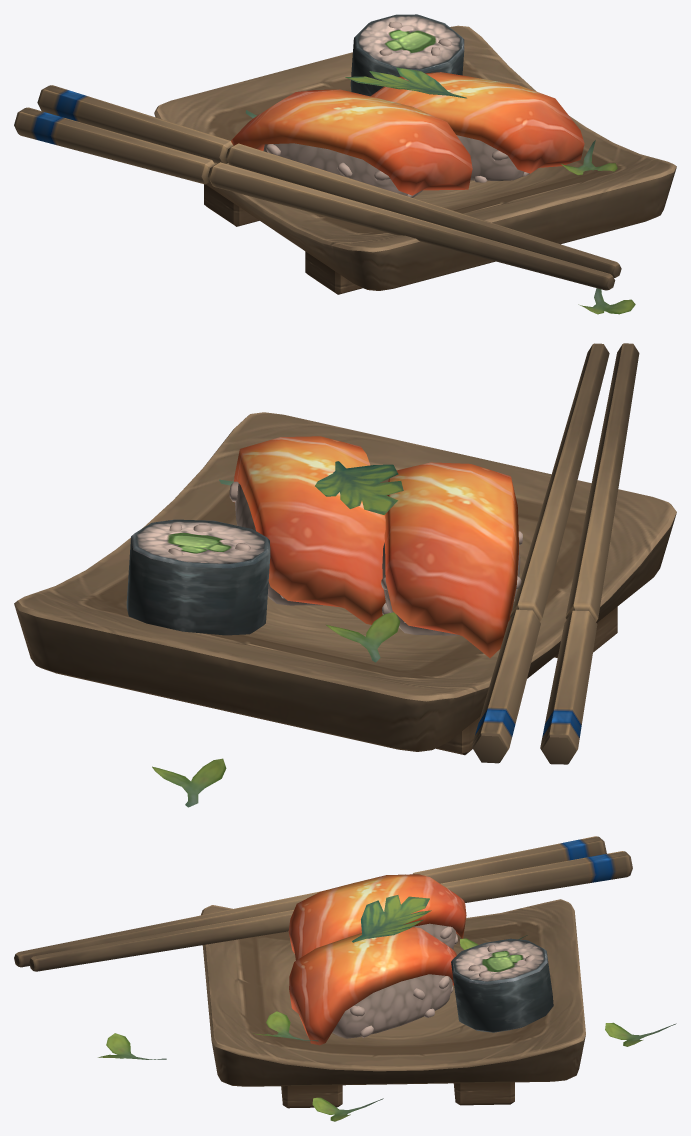
Rendered from sushi.glb.
The picture shows the model from 3 angles, top to bottom: view 1: azimuth 30°, elevation 25°; view 2: azimuth 150°, elevation 25°; view 3: azimuth 270°, elevation 25°; orthographic projection. The views are drawn at different scales.
Visible parts, largest first — view 1: Plate_01_Free, Nigiri_Sake.002, Chopstick.001, Chopstick_Free, Nigiri_Sake_Free, Maki_01_Free, Leaf_02_Free, Leaf_03.002, Leaf_03.009; view 2: Plate_01_Free, Nigiri_Sake.002, Nigiri_Sake_Free, Maki_01_Free, Chopstick.001, Chopstick_Free, Leaf_02_Free, Leaf_03_Free, Leaf_03.001; view 3: Plate_01_Free, Nigiri_Sake_Free, Chopstick_Free, Maki_01_Free, Nigiri_Sake.002, Chopstick.001, Leaf_02_Free, Leaf_03.002, Leaf_03.009, Leaf_03.004, Leaf_03_Free.
Part boxes in pixels (box(x1,y1,x2,y2)): Plate_01_Free: box(154, 25, 676, 294); Nigiri_Sake.002: box(231, 89, 472, 197); Chopstick.001: box(14, 107, 615, 290); Chopstick_Free: box(37, 85, 621, 277); Nigiri_Sake_Free: box(370, 72, 584, 182); Maki_01_Free: box(350, 14, 464, 96); Leaf_02_Free: box(345, 67, 466, 98); Leaf_03.002: box(578, 288, 635, 314); Leaf_03.009: box(561, 140, 617, 175); Plate_01_Free: box(14, 412, 676, 755); Nigiri_Sake.002: box(381, 462, 522, 657); Nigiri_Sake_Free: box(229, 436, 385, 624); Maki_01_Free: box(126, 519, 270, 635); Chopstick.001: box(540, 343, 639, 764); Chopstick_Free: box(471, 343, 609, 763); Leaf_02_Free: box(315, 461, 403, 514); Leaf_03_Free: box(152, 758, 226, 807); Leaf_03.001: box(326, 612, 400, 662); Plate_01_Free: box(201, 899, 585, 1108); Nigiri_Sake_Free: box(289, 927, 456, 1045); Chopstick_Free: box(29, 851, 632, 971); Maki_01_Free: box(451, 938, 553, 1032); Nigiri_Sake.002: box(288, 874, 466, 960); Chopstick.001: box(14, 836, 606, 967); Leaf_02_Free: box(352, 895, 431, 942); Leaf_03.002: box(98, 1033, 166, 1059); Leaf_03.009: box(253, 1011, 318, 1041); Leaf_03.004: box(312, 1097, 383, 1121); Leaf_03_Free: box(605, 1022, 676, 1046).
Size of the model in its own units: 0.4074 by 0.1147 by 0.5271.
1 material, 1 textured.
